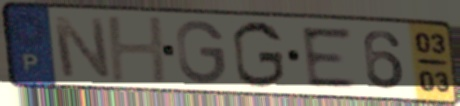6: (361, 27, 408, 91)
E: (297, 25, 361, 90)
G: (229, 19, 288, 91), (173, 18, 228, 87)
H: (103, 14, 172, 85)
N: (49, 13, 115, 81)
